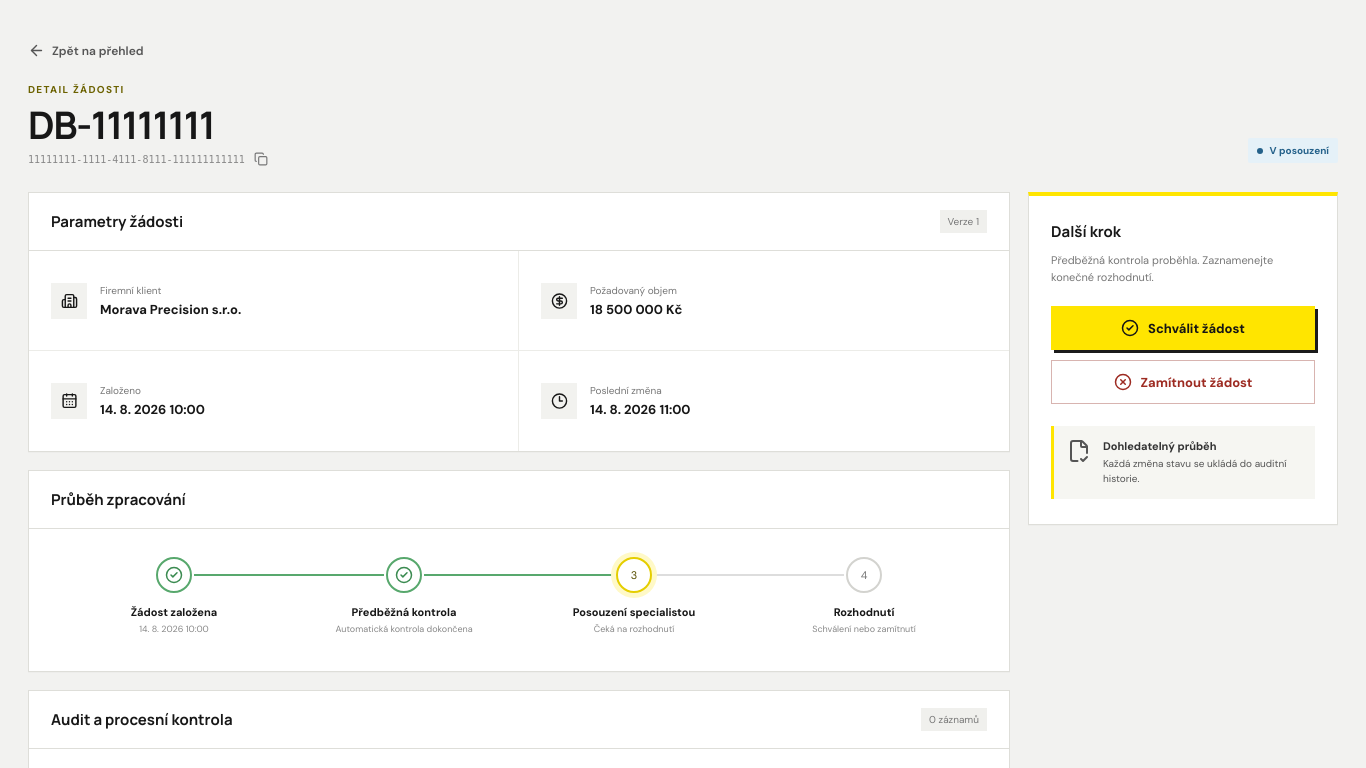
Scenario: application workflow UI › requires a rejection reason before enabling the irreversible decision
Step 1. Click the button "Zamítnout žádost" → (1183, 382), box [1051,360,1315,404]
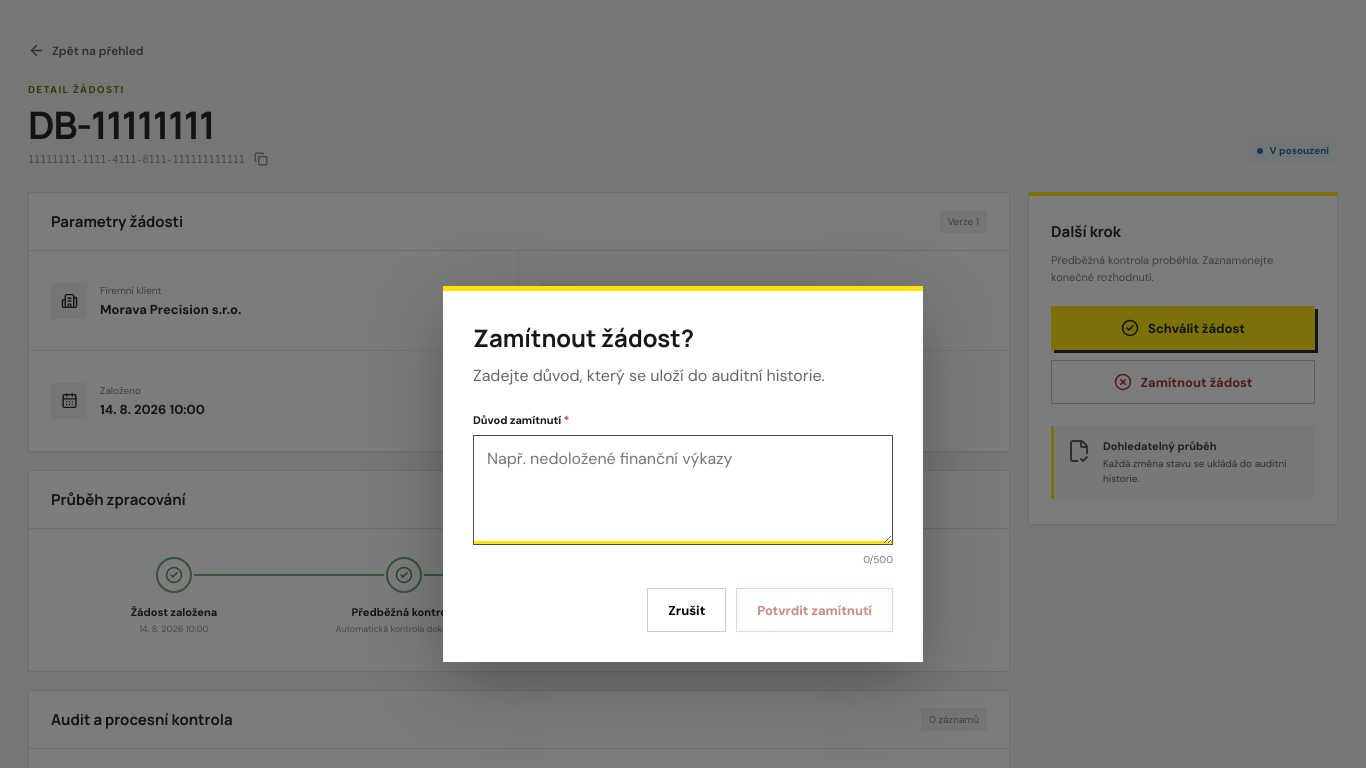
Now the button "Potvrdit zamítnutí" is disabled, box [736,588,893,632]
Step 2. Type "Nedoložené finanční výkazy." into the text box labelled "Důvod zamítnutí * 0/500" → (683, 490), box [473,435,893,545]
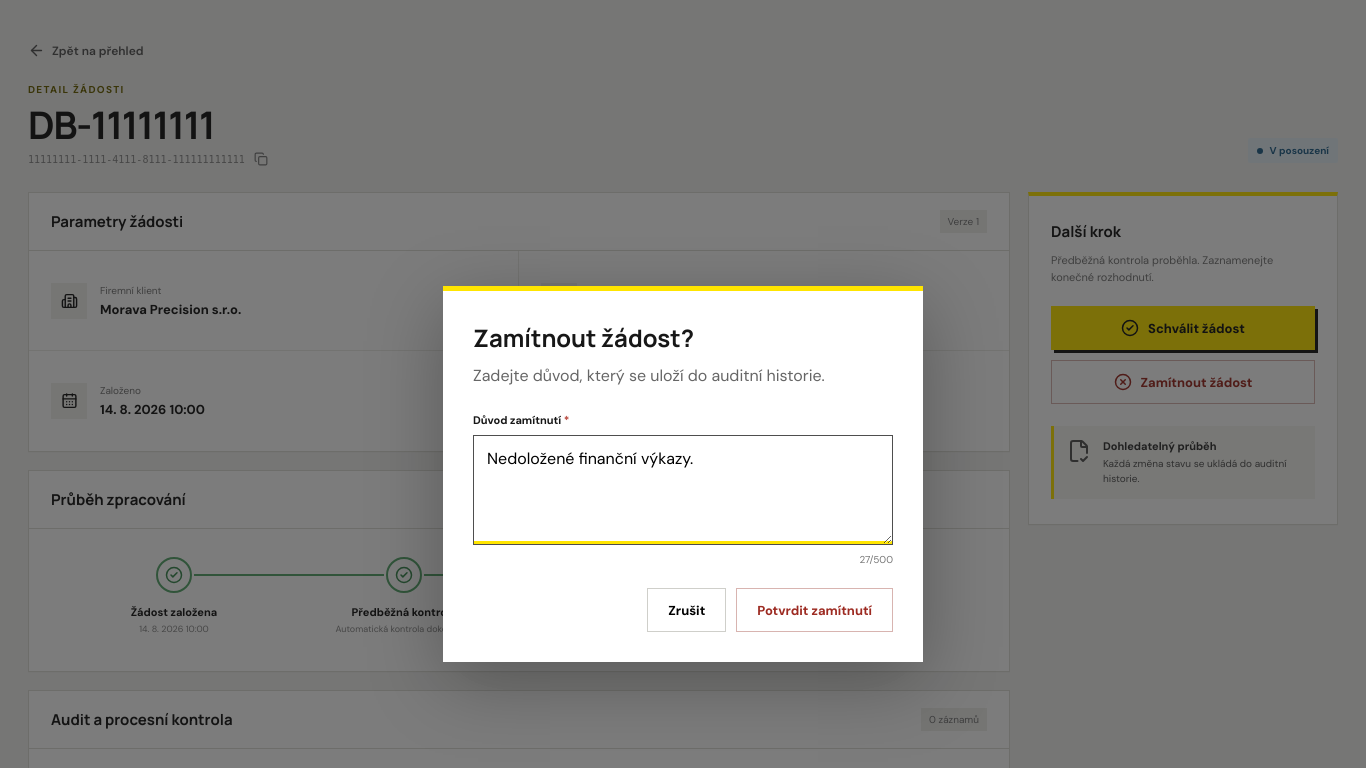
Now the button "Potvrdit zamítnutí" is enabled, box [736,588,893,632]
